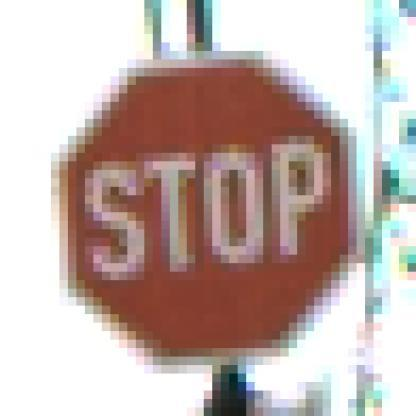Stop: (66, 60, 354, 352)
